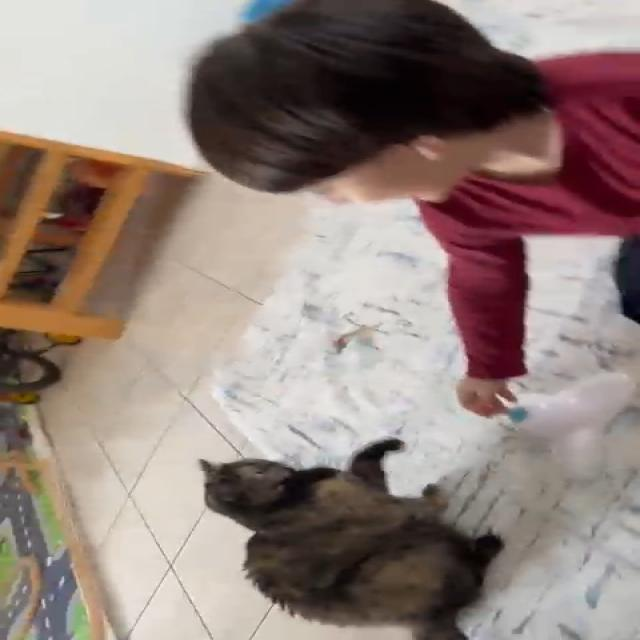authorized: (196, 436, 505, 640)
